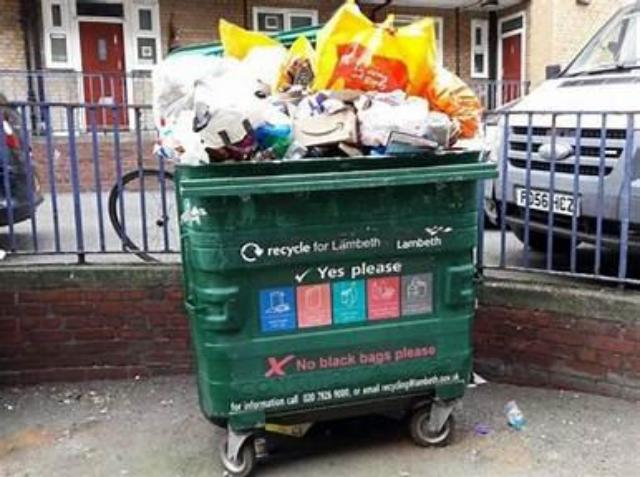Garbage: (154, 1, 481, 164)
Plastic_Bag: (314, 0, 481, 136), (155, 45, 294, 164), (219, 19, 279, 60), (279, 35, 315, 89)
